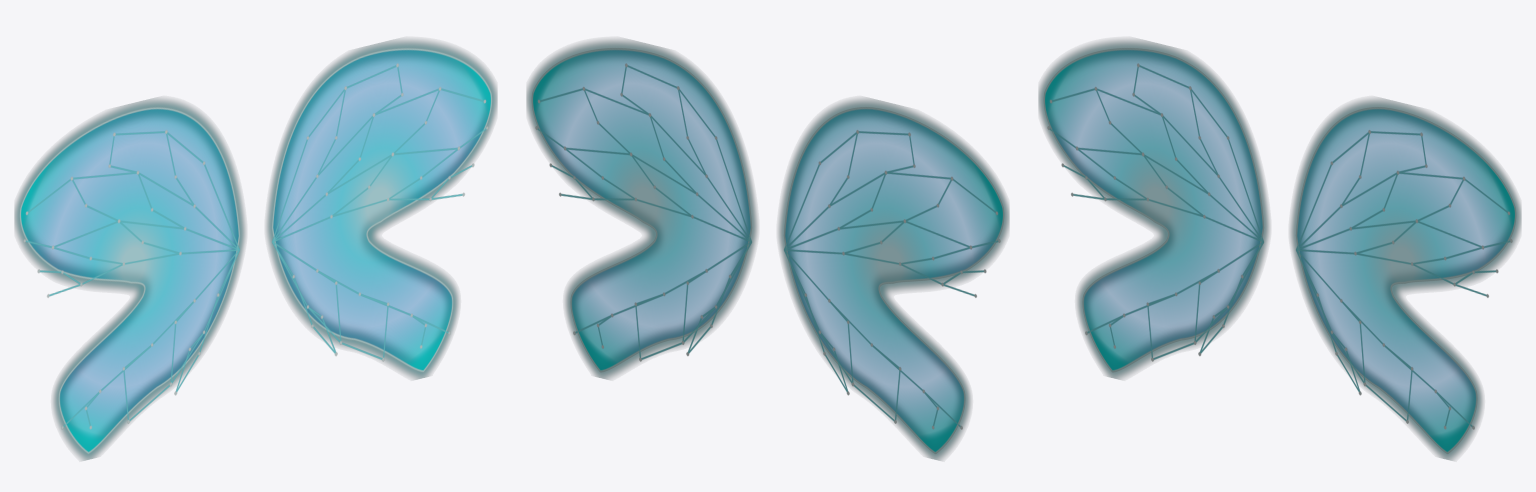
Rendered from ego_wings.gltf.
3 views of the same model, side by side, from view 1: azimuth 30°, elevation 25°; view 2: azimuth 150°, elevation 25°; view 3: azimuth 330°, elevation 25° (orthographic).
Parts seen in each view (by area): view 1: ego_wing_left, ego_wing_right; view 2: ego_wing_left, ego_wing_right; view 3: ego_wing_right, ego_wing_left.
Boxes of the visible parts, x1,y1,x2,y2 form: ego_wing_left: [14, 98, 245, 460]; ego_wing_right: [266, 39, 497, 379]; ego_wing_left: [778, 98, 1009, 460]; ego_wing_right: [526, 39, 757, 379]; ego_wing_right: [1290, 98, 1521, 460]; ego_wing_left: [1038, 39, 1269, 379].
Size of the model in its own units: 1.9 by 1.3 by 0.
Materials: 1 (1 with a texture image).
